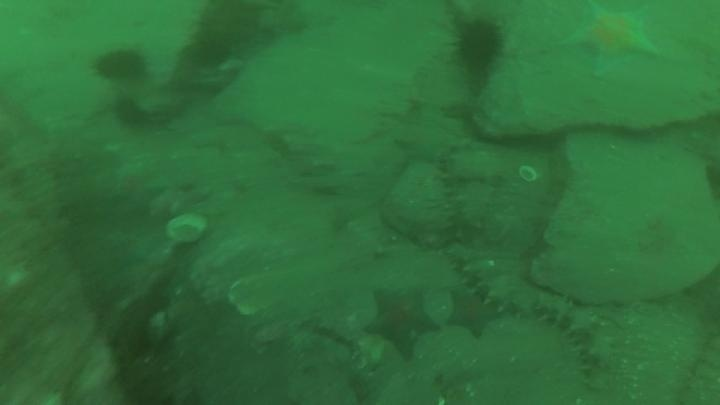echinus: (193, 2, 265, 59), (450, 17, 506, 75), (92, 46, 149, 84), (190, 34, 234, 71), (111, 95, 149, 130)
holothurian: (534, 296, 619, 395), (444, 235, 536, 312), (438, 143, 491, 234)
starfish: (562, 4, 660, 79), (362, 285, 441, 359), (444, 287, 501, 341), (109, 164, 168, 215), (392, 122, 452, 166)
